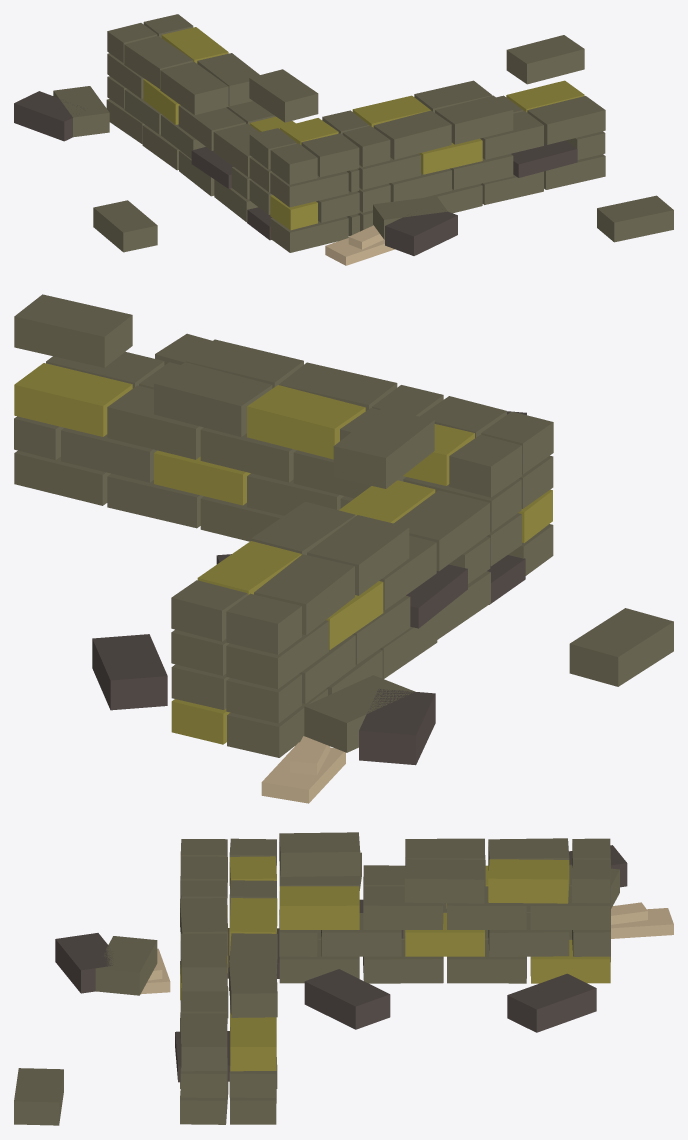
Rendered from SM_SacosEsquina_v2_Irregular_e1_Danado_LOD0.fbx.
The picture shows the model from 3 angles, top to bottom: view 1: azimuth 30°, elevation 25°; view 2: azimuth 150°, elevation 25°; view 3: azimuth 270°, elevation 25°; orthographic projection. The views are drawn at different scales.
Visible parts, largest first — view 1: SM_sacos_piezas_v9_LOD0; view 2: SM_sacos_piezas_v9_LOD0; view 3: SM_sacos_piezas_v9_LOD0.
Boxes of the visible parts, left/top/right/bottom form: SM_sacos_piezas_v9_LOD0: left=14, top=14, right=673, bottom=265; SM_sacos_piezas_v9_LOD0: left=14, top=294, right=673, bottom=803; SM_sacos_piezas_v9_LOD0: left=14, top=832, right=673, bottom=1125.
Size of the model in its own units: 6.07 by 1.49 by 6.71.
